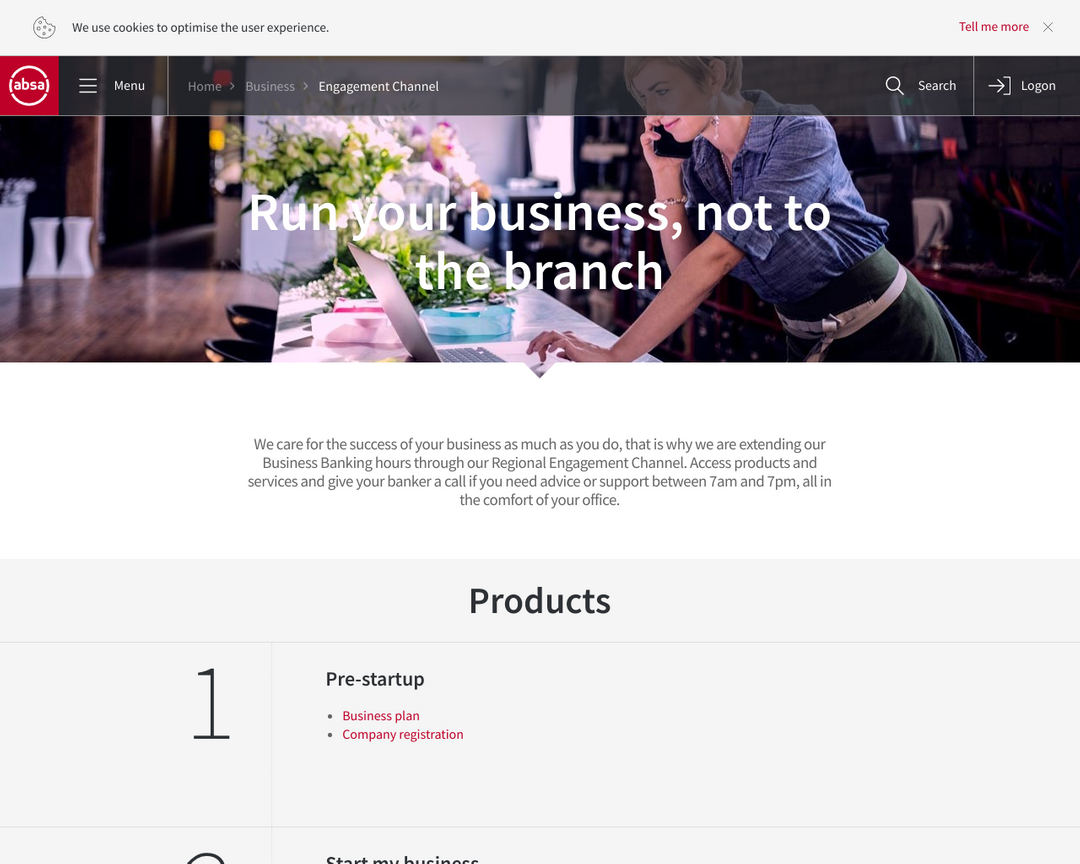ABSA: (8, 65, 52, 107)
